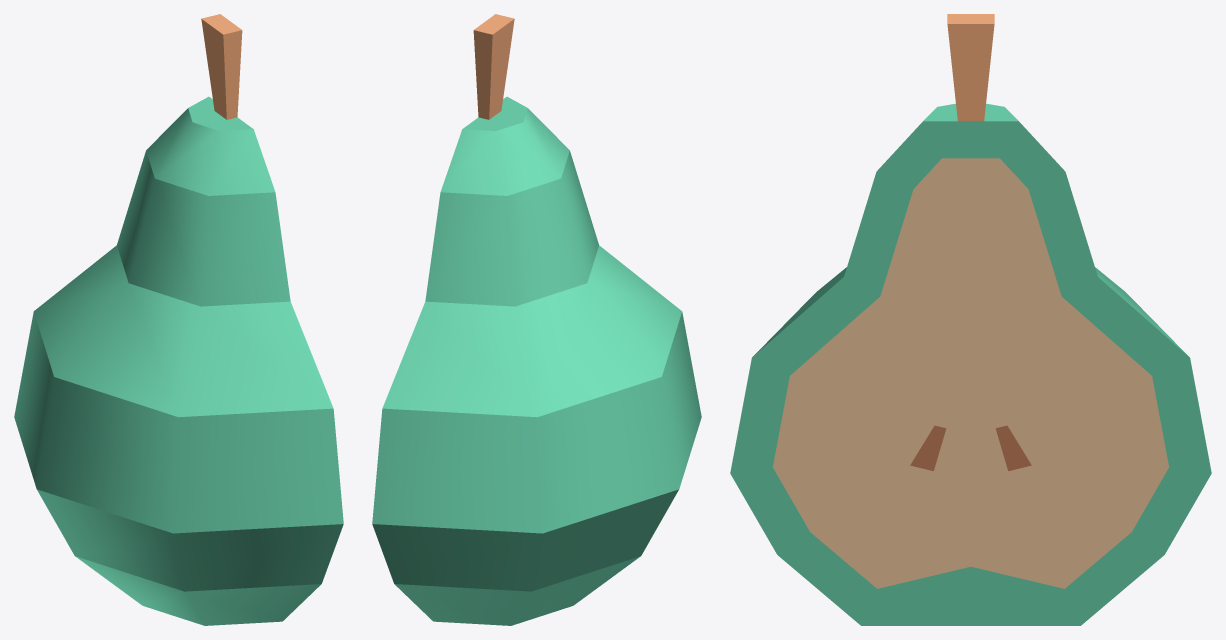
File: Pear Half.glb
The picture shows the model from 3 angles, left to right: view 1: azimuth 30°, elevation 25°; view 2: azimuth 150°, elevation 25°; view 3: azimuth 270°, elevation 25°; orthographic projection. The views are drawn at different scales.
Visible parts, largest first — view 1: Pear Half; view 2: Pear Half; view 3: Pear Half.
Part boxes in pixels (box(x1,y1,x2,y2)): Pear Half: box(14, 14, 343, 625); Pear Half: box(372, 14, 701, 625); Pear Half: box(730, 14, 1211, 625).
Size of the model in its own units: 0.0981 by 0.2708 by 0.1963.
